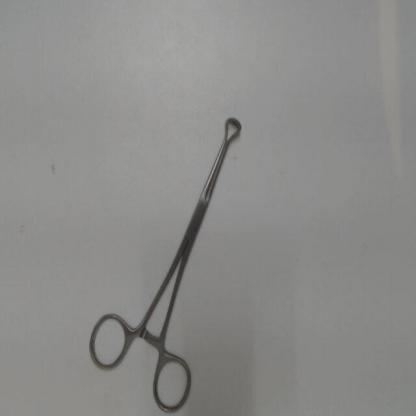Babcock Tissue Forceps: (86, 110, 245, 415)
